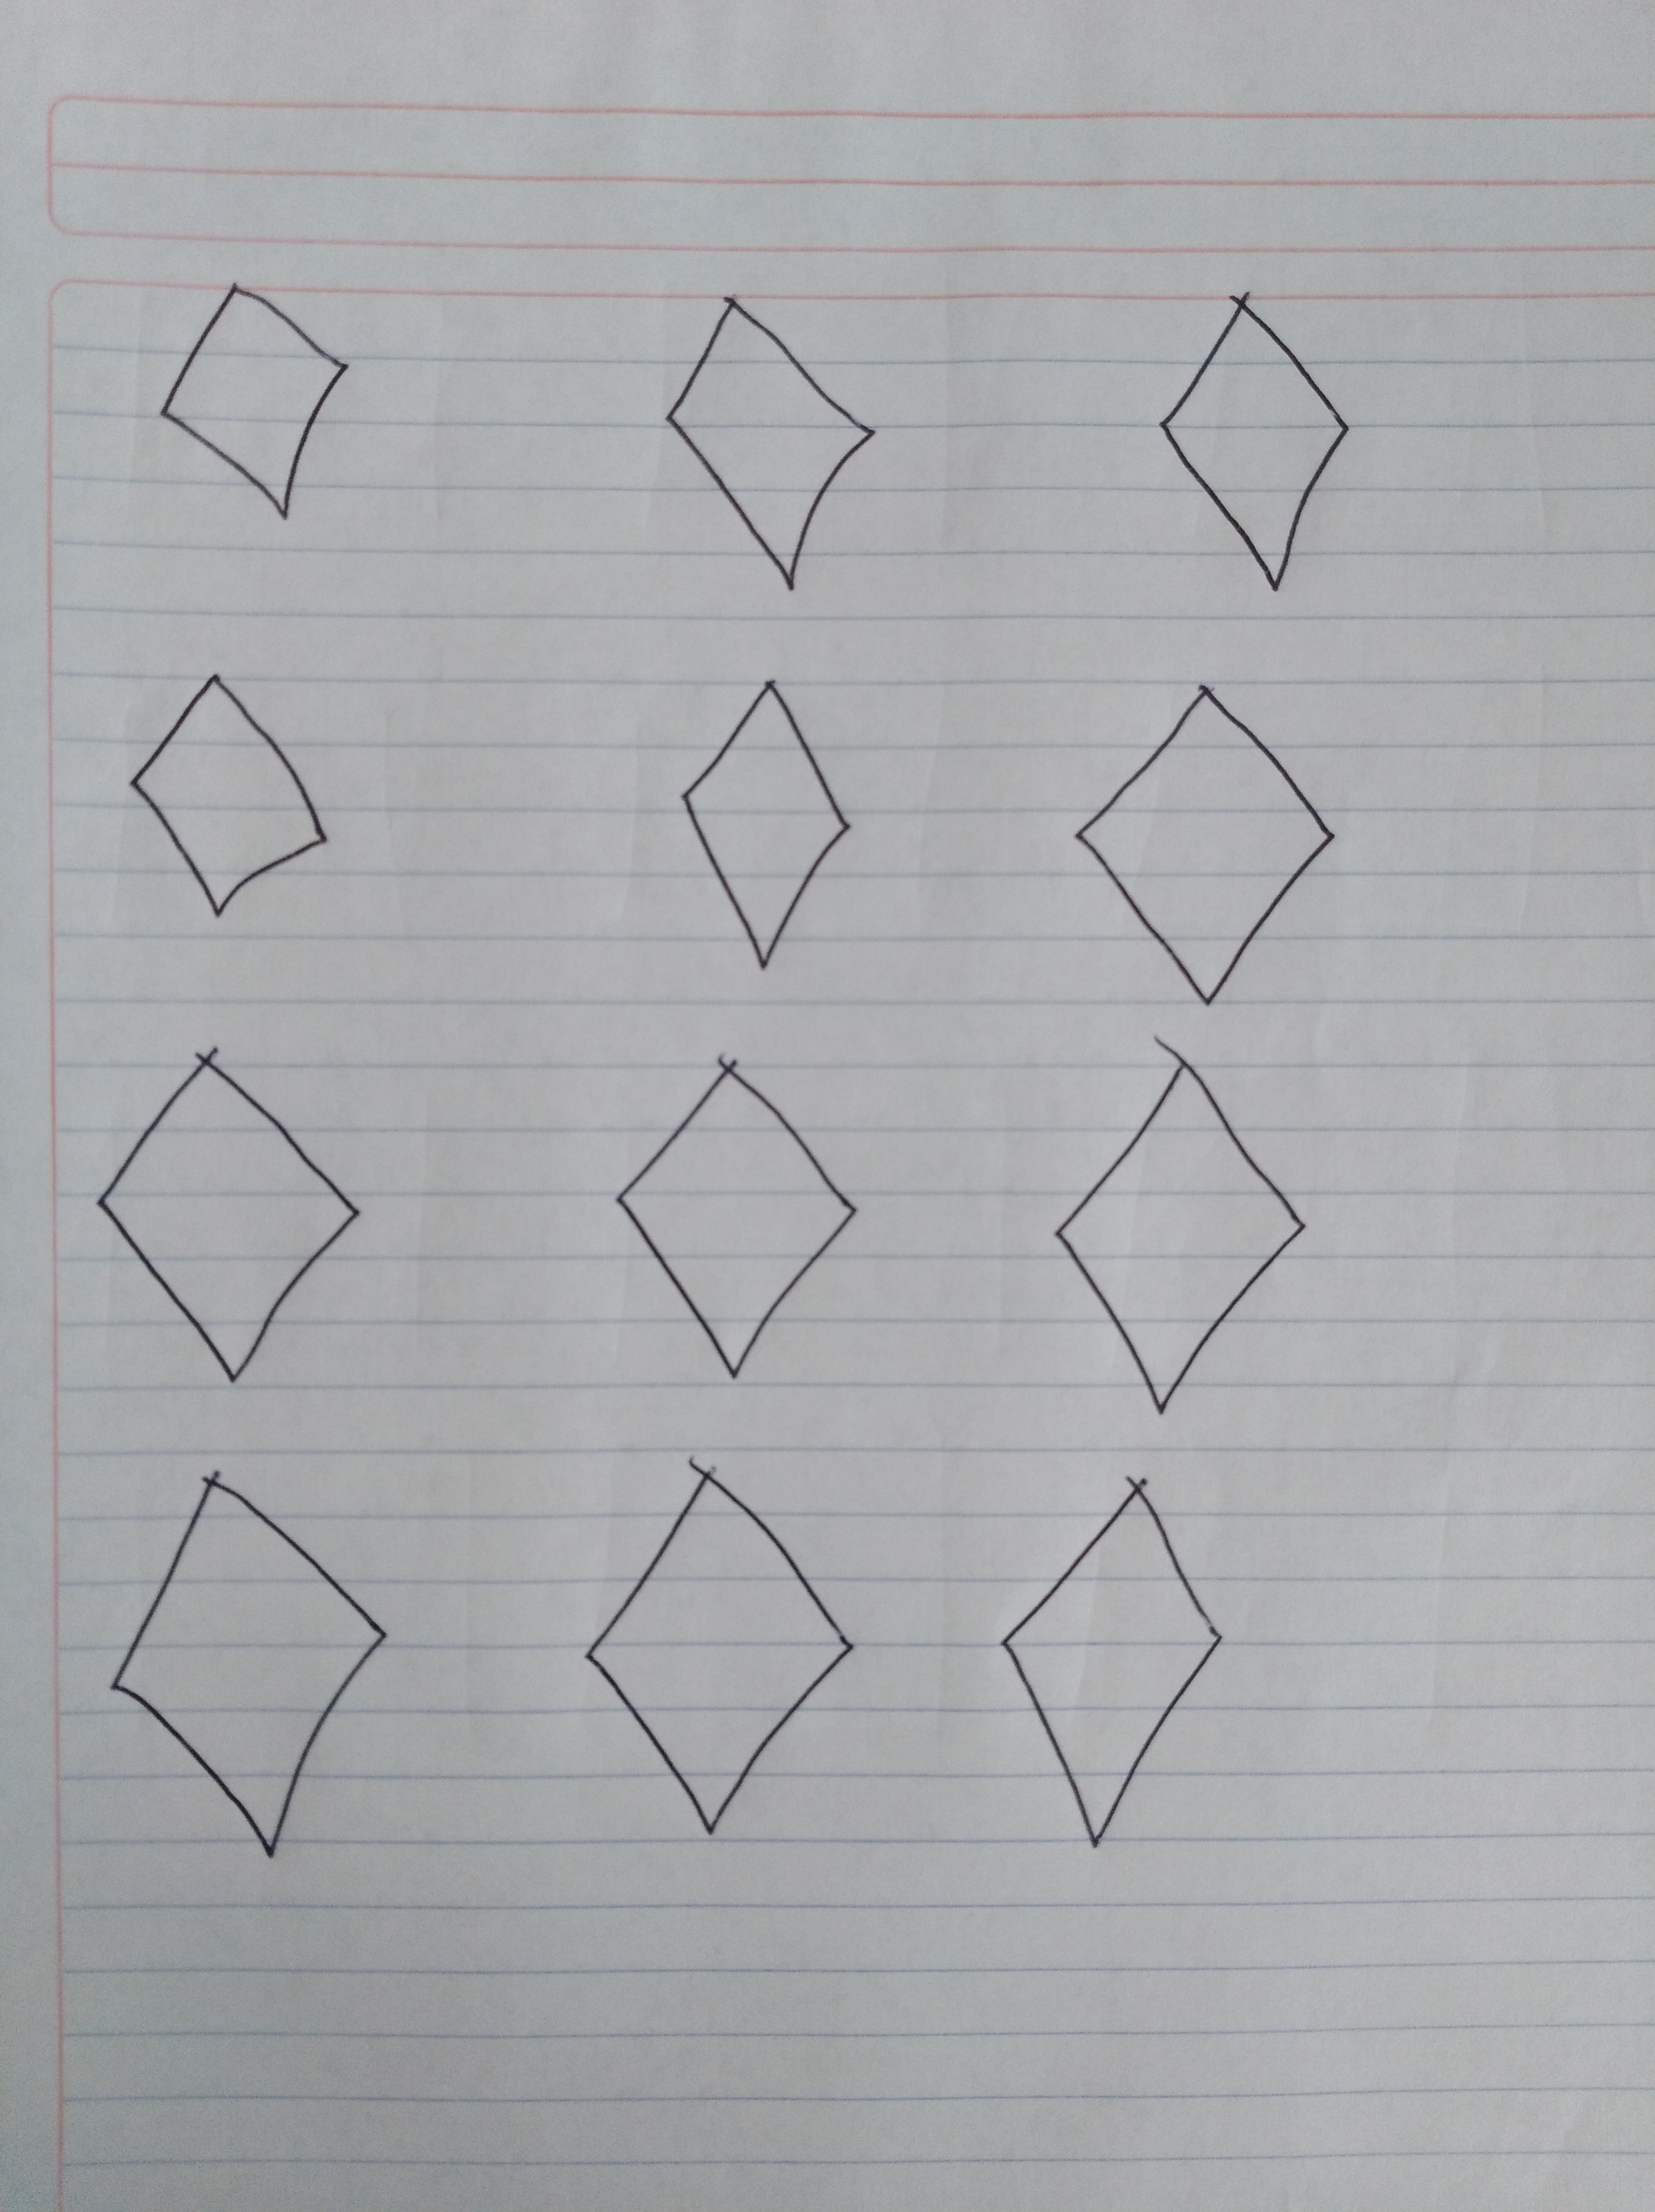decision: (85, 1451, 424, 1889), (551, 1439, 883, 1873), (63, 1018, 405, 1401), (1027, 1029, 1354, 1427), (1036, 653, 1377, 1013), (584, 1032, 899, 1402), (970, 1460, 1250, 1864), (612, 264, 928, 610), (1111, 266, 1389, 605), (85, 641, 396, 938), (631, 650, 899, 989), (116, 240, 398, 535)
